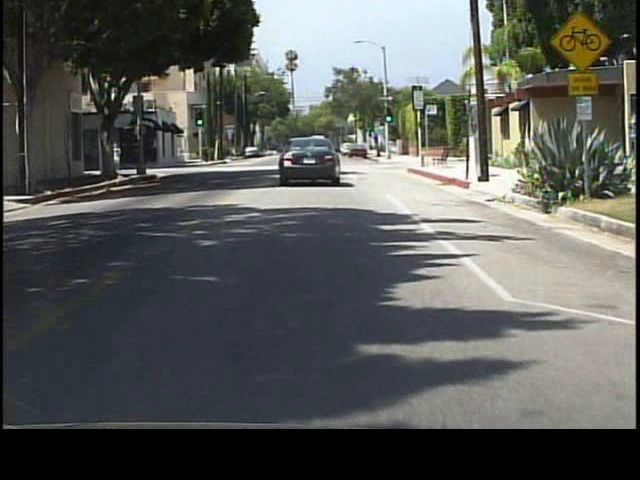person: (112, 138, 125, 174)
